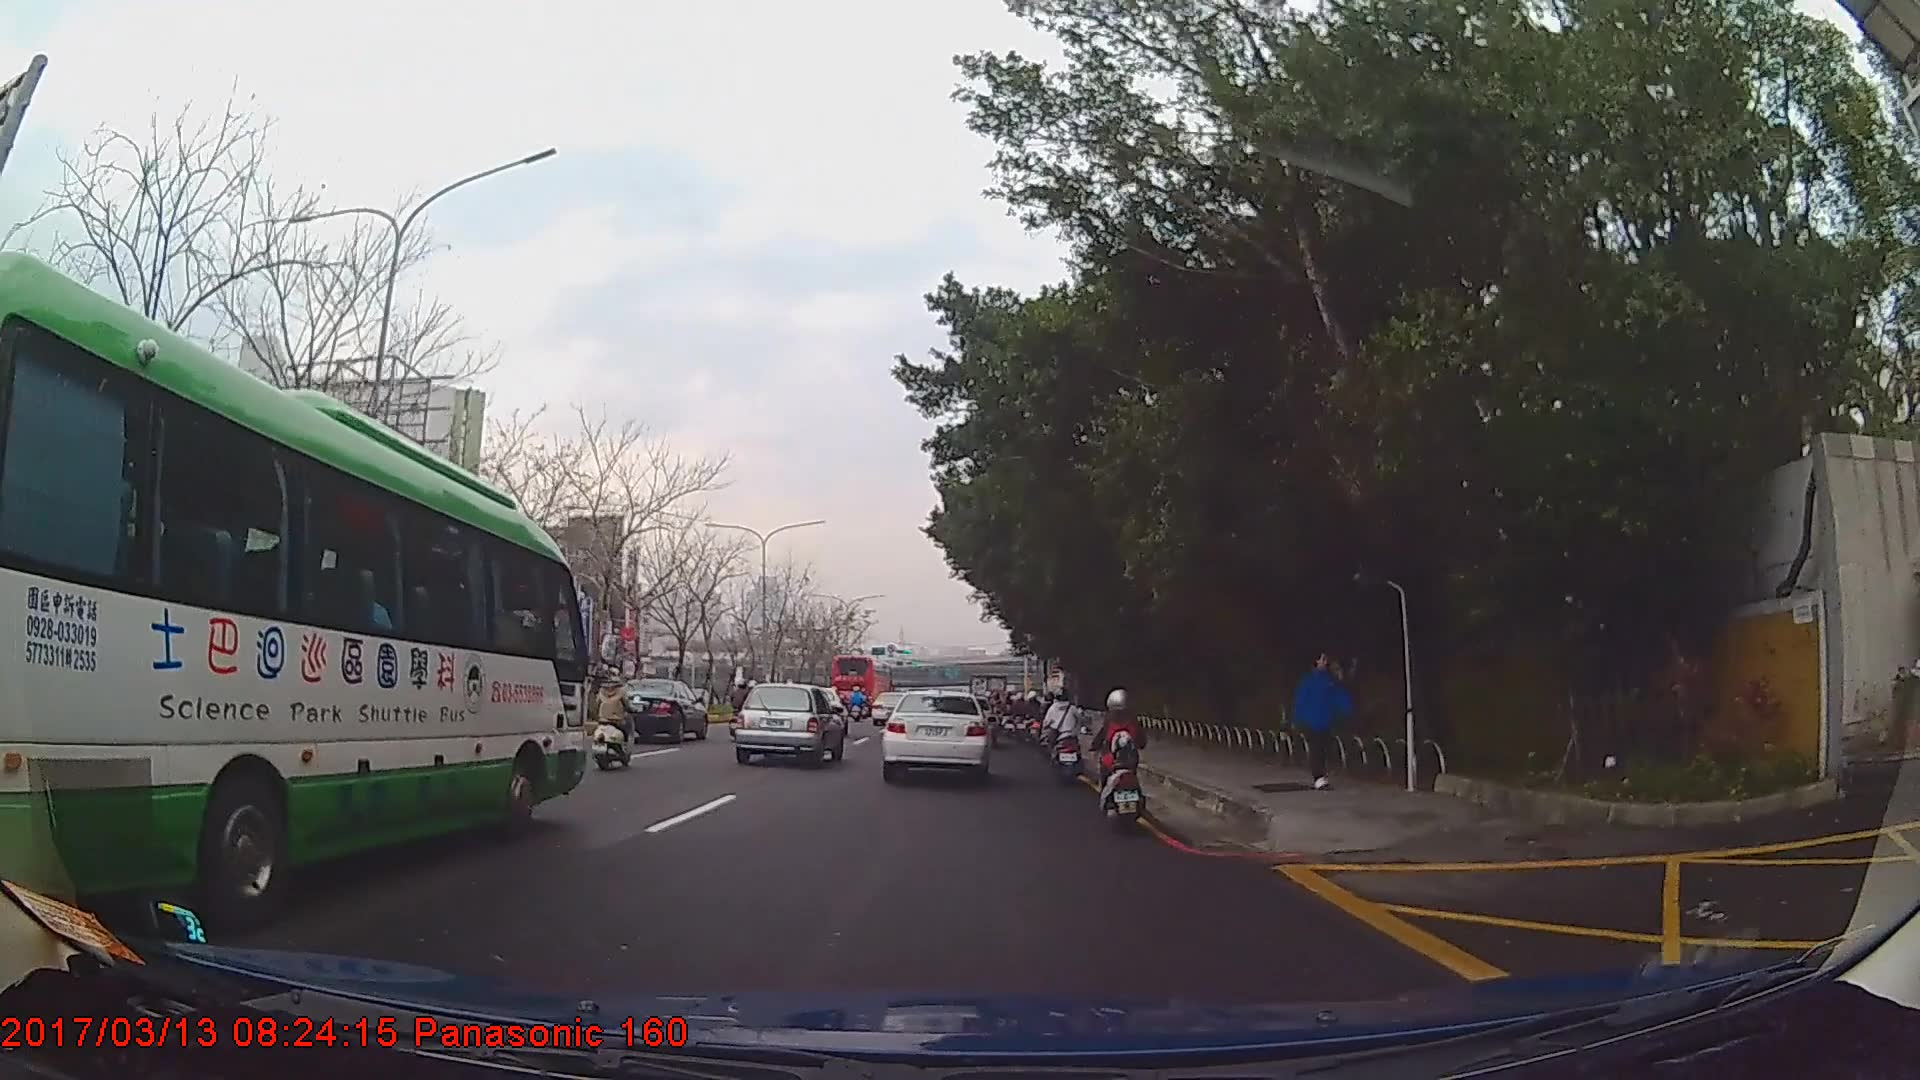pedestrian: (1293, 648, 1351, 790)
rider: (1091, 677, 1146, 819), (592, 666, 637, 770), (1041, 688, 1084, 779), (1037, 690, 1058, 753), (732, 680, 755, 732)
vehicle: (0, 255, 588, 930), (881, 688, 991, 783), (732, 680, 843, 765), (609, 676, 707, 747), (829, 650, 897, 712)
